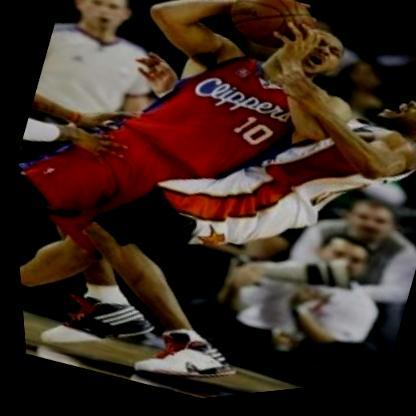basketball: (216, 0, 329, 74)
